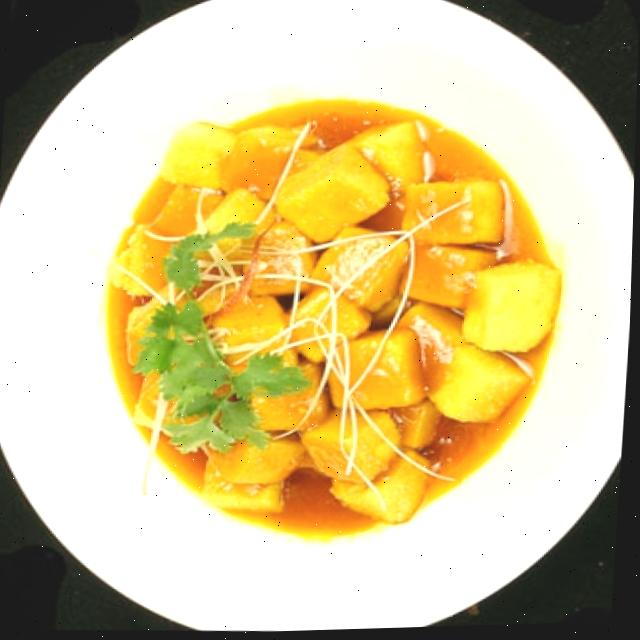豆腐料理: (0, 0, 638, 624)
